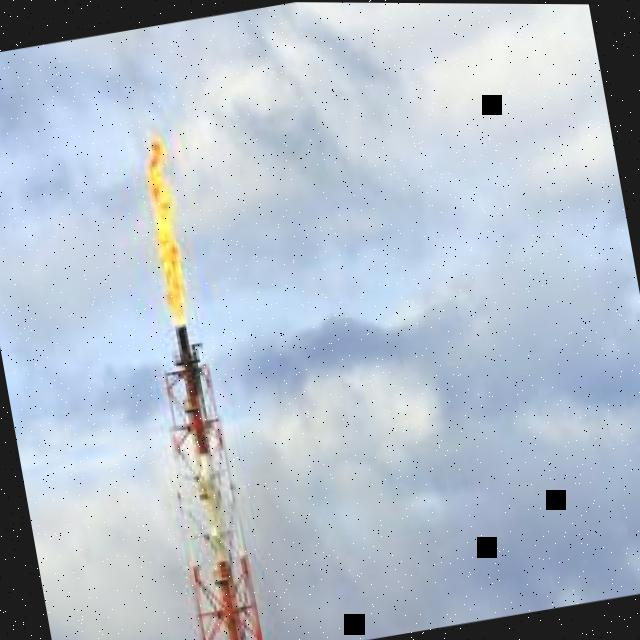fire: (145, 133, 186, 326)
